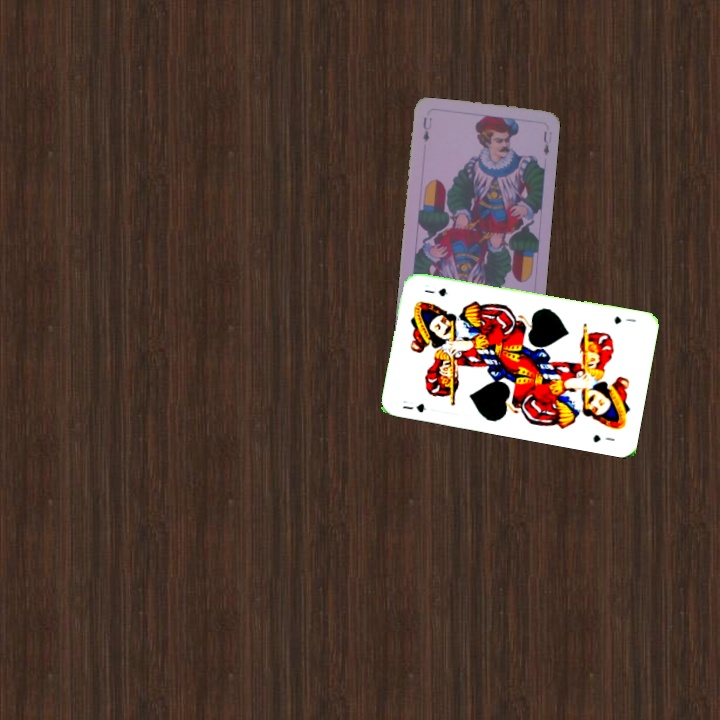EU: (419, 113, 435, 144)
GU: (398, 397, 429, 415), (610, 312, 638, 327)
